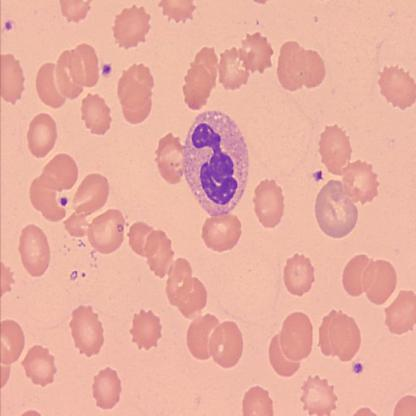Segmented neutrophil: (177, 106, 251, 222)
